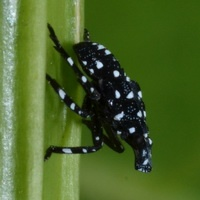insect: (44, 24, 151, 171)
